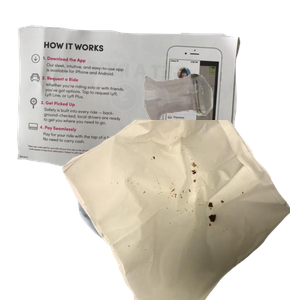glass: (141, 71, 300, 187)
paper: (14, 22, 247, 191)
plastic: (75, 154, 248, 300)
trash: (60, 120, 300, 300)
